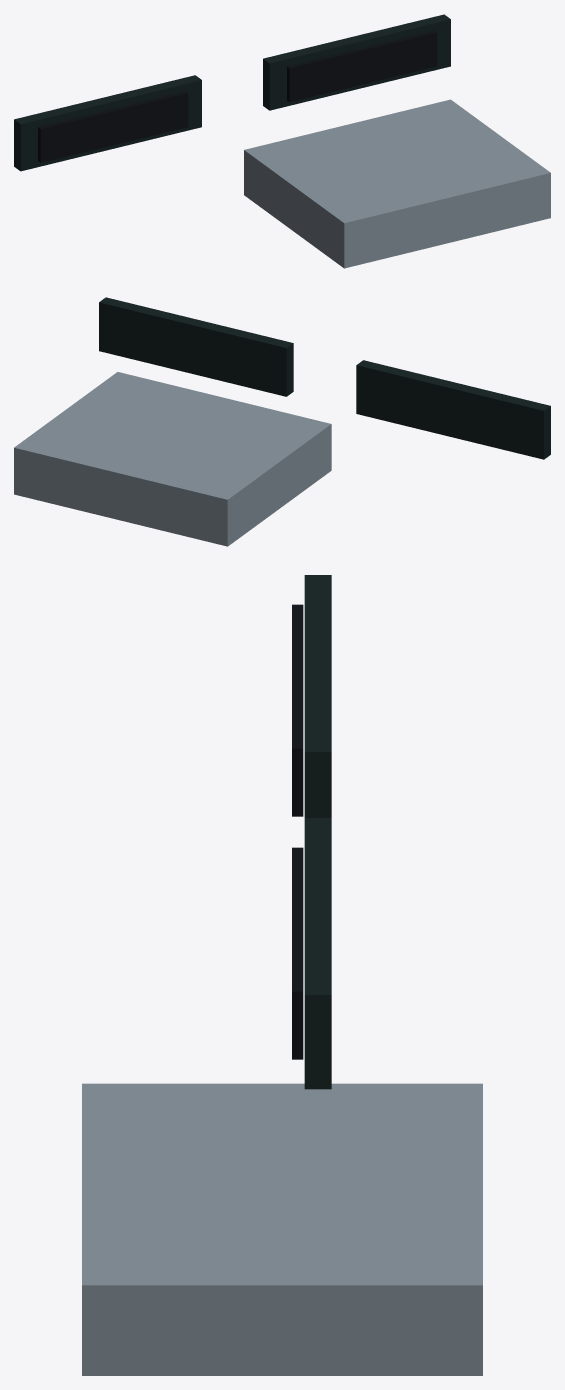
The model's file is pc-storage.glb.
3 renders of one model, top to bottom at view 1: azimuth 30°, elevation 25°; view 2: azimuth 150°, elevation 25°; view 3: azimuth 270°, elevation 25°, orthographic. The views are drawn at different scales.
Parts seen in each view (by area): view 1: storage (×5); view 2: storage (×3); view 3: storage (×5).
Part boxes in pixels (bbox=[...]): storage (×5): bbox=[14, 14, 550, 268]; storage (×3): bbox=[14, 297, 550, 546]; storage (×5): bbox=[82, 575, 482, 1375].
Bounding box in the file's own units: 2.63 × 0.895 × 0.963.
